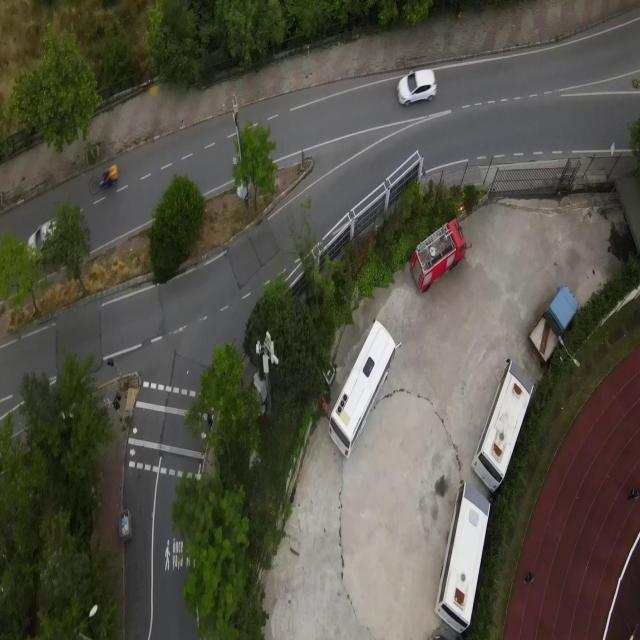p3rson: (625, 483, 640, 504), (522, 567, 535, 587)
